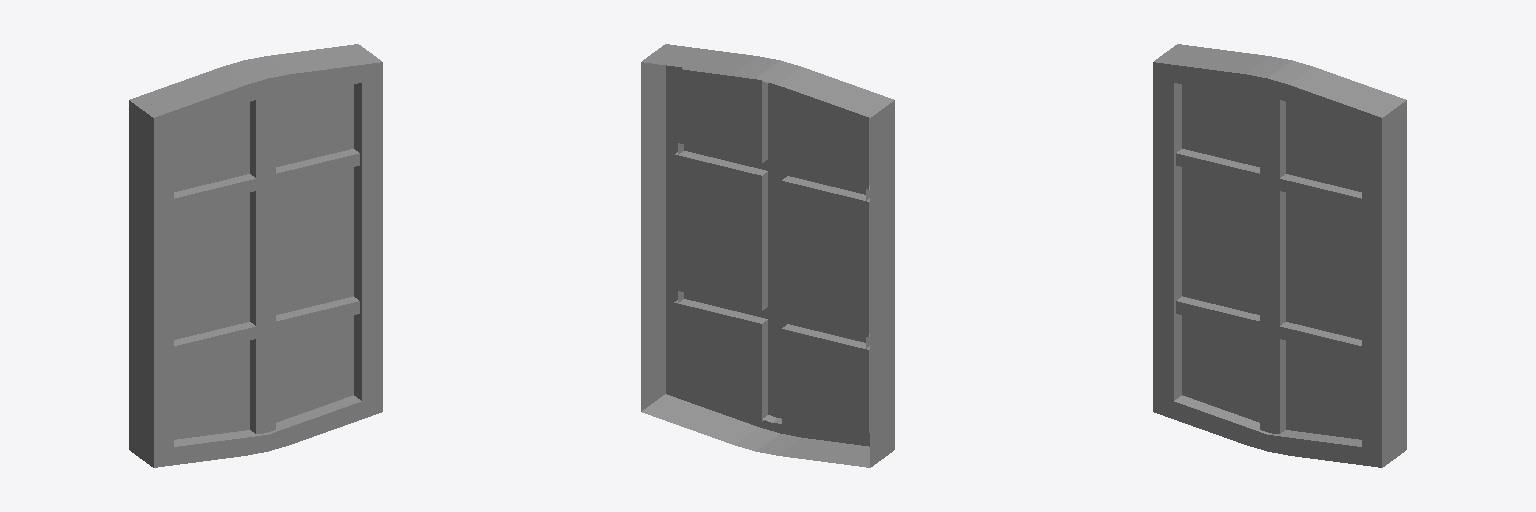
File: Window_Double.obj
3 views of the same model, side by side, from view 1: azimuth 30°, elevation 25°; view 2: azimuth 150°, elevation 25°; view 3: azimuth 330°, elevation 25° (orthographic).
Visible parts, largest first — view 1: Window_Double_Cube.179; view 2: Window_Double_Cube.179; view 3: Window_Double_Cube.179.
Boxes of the visible parts, x1,y1,x2,y2 form: Window_Double_Cube.179: [129, 44, 382, 467]; Window_Double_Cube.179: [641, 44, 894, 467]; Window_Double_Cube.179: [1153, 44, 1406, 467].
Size of the model in its own units: 0.3027 by 0.47 by 0.0564.